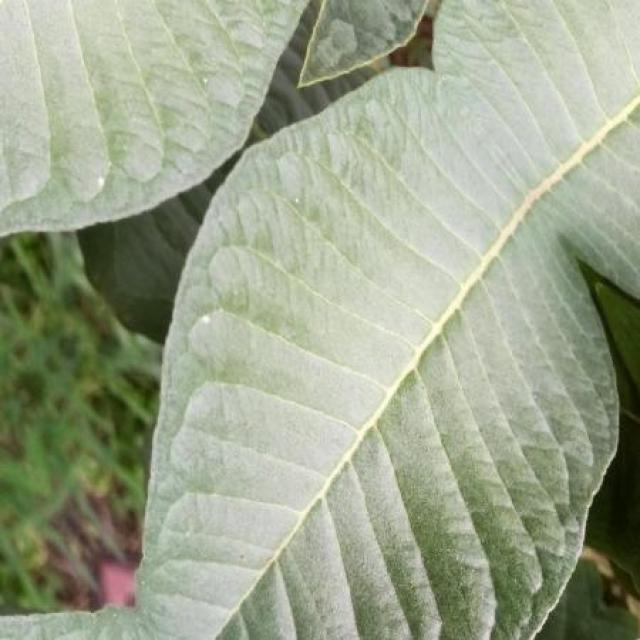Disease Free: (2, 0, 640, 640), (0, 1, 308, 233)
